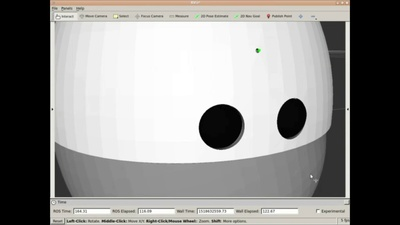mira_robot: (56, 22, 333, 195)
